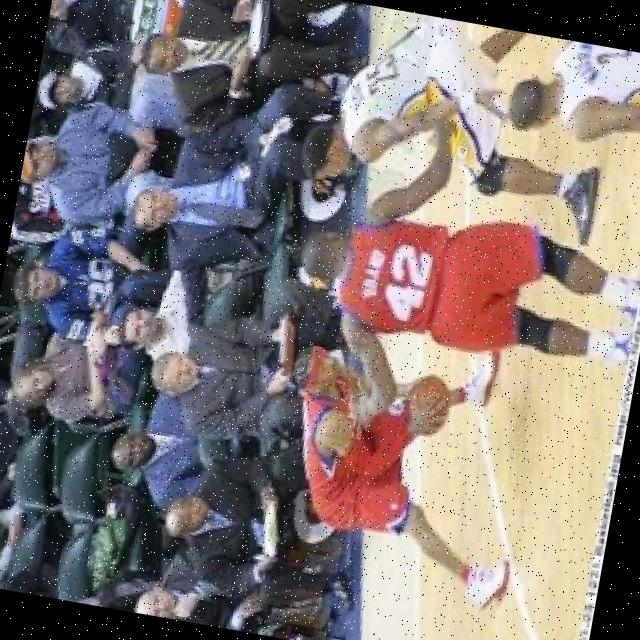ball: (404, 377, 452, 434)
